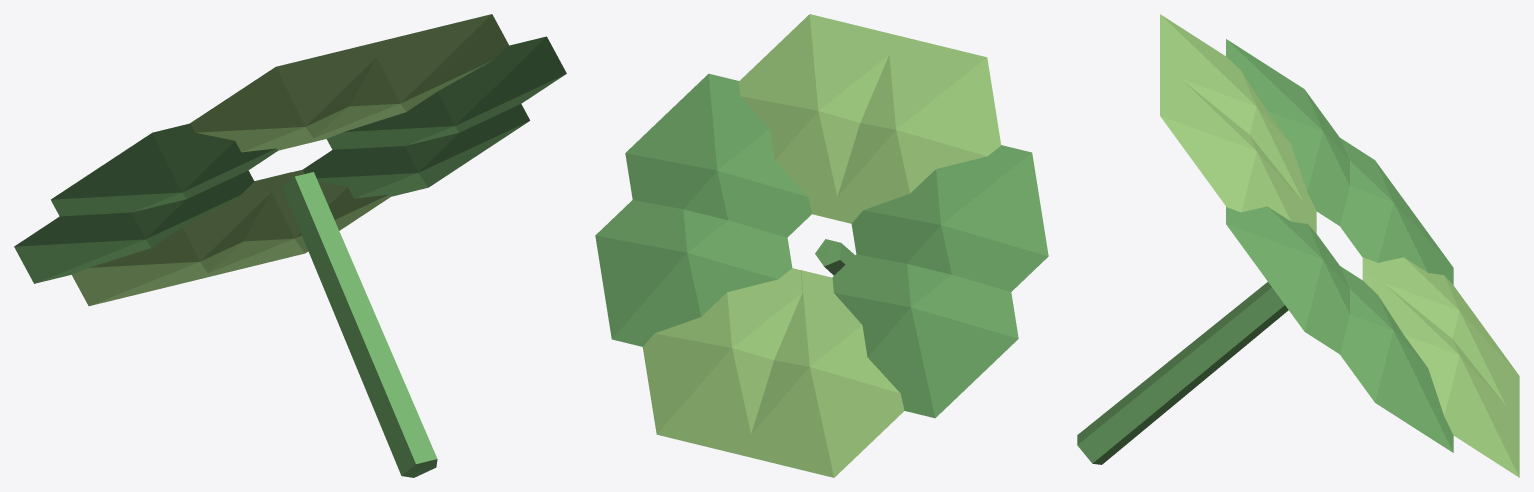
File: deco_four_leaf_clover.obj
3 views of the same model, side by side, from view 1: azimuth 30°, elevation 25°; view 2: azimuth 150°, elevation 25°; view 3: azimuth 270°, elevation 25° (orthographic). The views are drawn at different scales.
Parts seen in each view (by area): view 1: deco_four_leaf_clover; view 2: deco_four_leaf_clover; view 3: deco_four_leaf_clover.
Part boxes in pixels (x1=…): deco_four_leaf_clover: x1=14, y1=14, x2=566, y2=477; deco_four_leaf_clover: x1=595, y1=14, x2=1048, y2=477; deco_four_leaf_clover: x1=1077, y1=14, x2=1519, y2=477.
Bounding box in the file's own units: 0.0254 × 0.0196 × 0.0196.
Materials: 1 (1 with a texture image).
